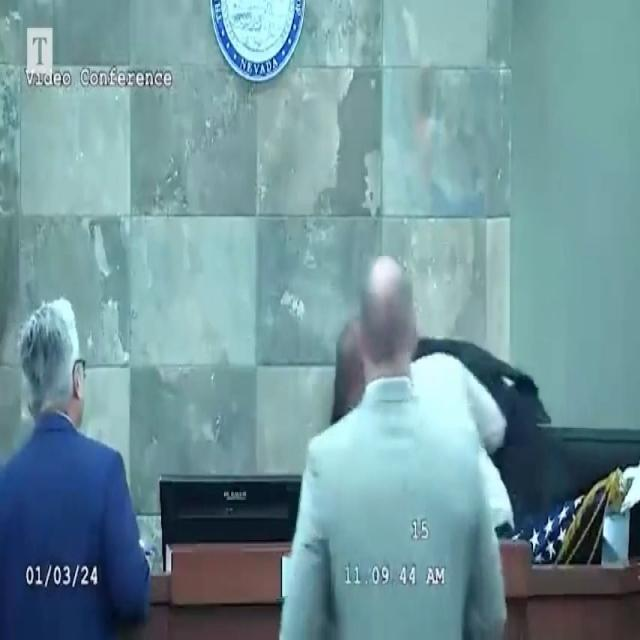non-fight: (277, 241, 508, 640), (2, 281, 150, 640)
